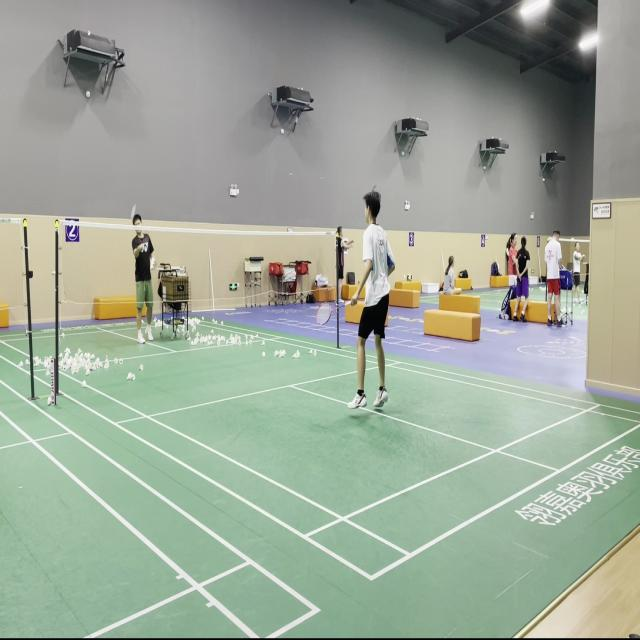shuttlecock: (130, 204, 136, 218)
